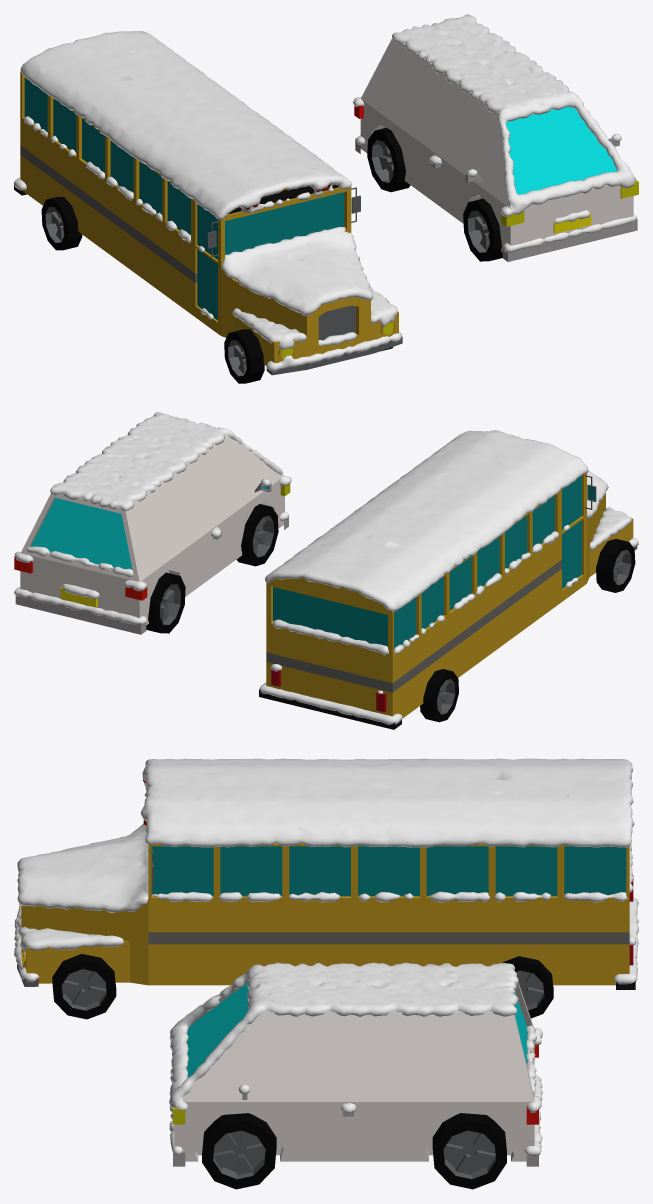
The model's file is bussen.fbx.
3 renders of one model, top to bottom at view 1: azimuth 30°, elevation 25°; view 2: azimuth 150°, elevation 25°; view 3: azimuth 270°, elevation 25°, orthographic. The views are drawn at different scales.
Visible parts, largest first — view 1: SnowBall.020, Bus1, Van, SnowBall.019, R_Back_Wheel, R_Front_Wheel, R_Front_Wheel.004, R_Back_Wheel.004; view 2: Bus1, SnowBall.020, Van, SnowBall.019, R_Front_Wheel, R_Back_Wheel, R_Front_Wheel.004, R_Back_Wheel.004; view 3: Bus1, SnowBall.020, Van, SnowBall.019, L_Front_Wheel, L_Back_Wheel, L_Front_Wheel.004, L_Back_Wheel.004.
Part boxes in pixels (left/top/right/bottom): SnowBall.020: left=14, top=31, right=401, bottom=371; Bus1: left=14, top=71, right=402, bottom=375; Van: left=354, top=39, right=638, bottom=261; SnowBall.019: left=353, top=14, right=636, bottom=252; R_Back_Wheel: left=367, top=128, right=410, bottom=192; R_Front_Wheel: left=463, top=198, right=502, bottom=261; R_Front_Wheel.004: left=224, top=329, right=264, bottom=383; R_Back_Wheel.004: left=41, top=197, right=82, bottom=250; Bus1: left=259, top=473, right=637, bottom=729; SnowBall.020: left=259, top=430, right=638, bottom=724; Van: left=14, top=434, right=290, bottom=634; SnowBall.019: left=14, top=412, right=291, bottom=624; R_Front_Wheel: left=236, top=504, right=278, bottom=566; R_Back_Wheel: left=146, top=572, right=185, bottom=633; R_Front_Wheel.004: left=596, top=539, right=635, bottom=592; R_Back_Wheel.004: left=420, top=669, right=458, bottom=722; Bus1: left=17, top=779, right=635, bottom=989; SnowBall.020: left=14, top=758, right=638, bottom=984; Van: left=173, top=978, right=538, bottom=1166; SnowBall.019: left=169, top=962, right=542, bottom=1156; L_Front_Wheel: left=202, top=1113, right=276, bottom=1189; L_Back_Wheel: left=432, top=1113, right=506, bottom=1189; L_Front_Wheel.004: left=52, top=954, right=116, bottom=1019; L_Back_Wheel.004: left=502, top=956, right=553, bottom=1018.
Size of the model in its own units: 890 by 303 by 889.
